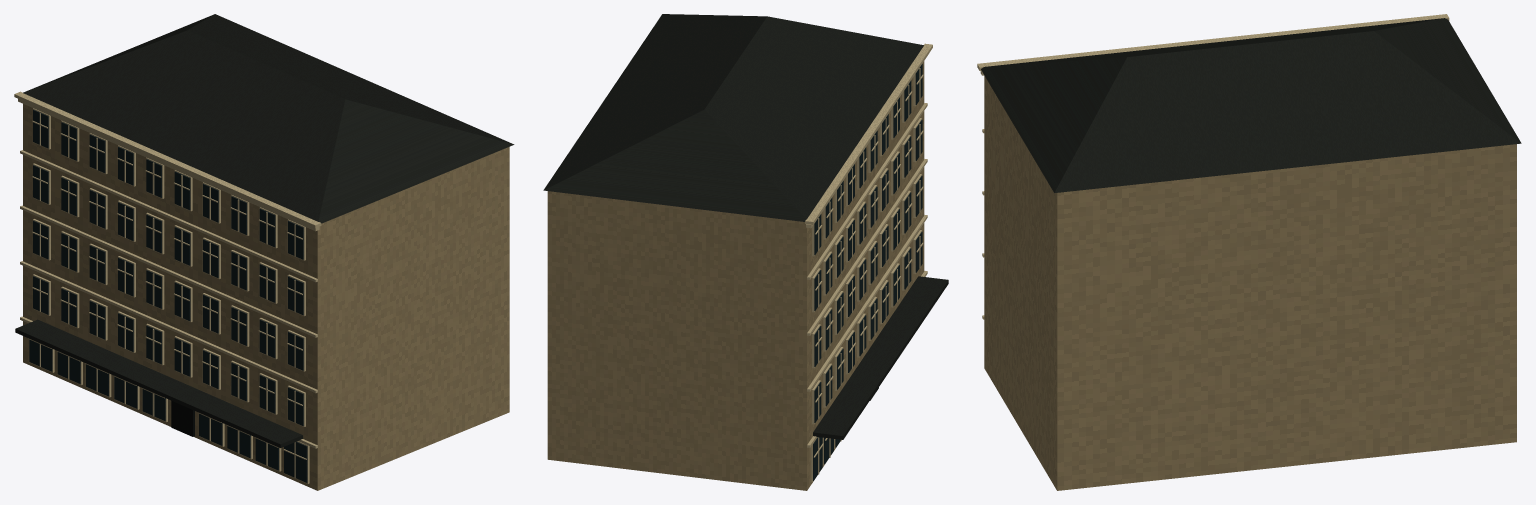
3 views of the same model, side by side, from view 1: azimuth 30°, elevation 25°; view 2: azimuth 150°, elevation 25°; view 3: azimuth 270°, elevation 25° (orthographic). The views are drawn at different scales.
Parts seen in each view (by area): view 1: hotel-coomans-0, hotel-coomans-1, hotel-coomans-3, hotel-coomans-2, hotel-coomans-4; view 2: hotel-coomans-0, hotel-coomans-1, hotel-coomans-2, hotel-coomans-3; view 3: hotel-coomans-0, hotel-coomans-1, hotel-coomans-2.
Part boxes in pixels (x1,y1,x2,y2): hotel-coomans-0: [23, 104, 509, 490]; hotel-coomans-1: [15, 14, 514, 447]; hotel-coomans-3: [29, 110, 307, 482]; hotel-coomans-2: [14, 91, 321, 483]; hotel-coomans-4: [171, 400, 194, 436]; hotel-coomans-0: [547, 61, 924, 490]; hotel-coomans-1: [543, 14, 948, 439]; hotel-coomans-2: [805, 43, 932, 482]; hotel-coomans-3: [813, 64, 922, 480]; hotel-coomans-0: [984, 76, 1516, 490]; hotel-coomans-1: [981, 18, 1521, 192]; hotel-coomans-2: [977, 14, 1449, 319].
Size of the model in its own units: 27.84 by 25.3 by 34.57.
5 materials, 5 textured.
